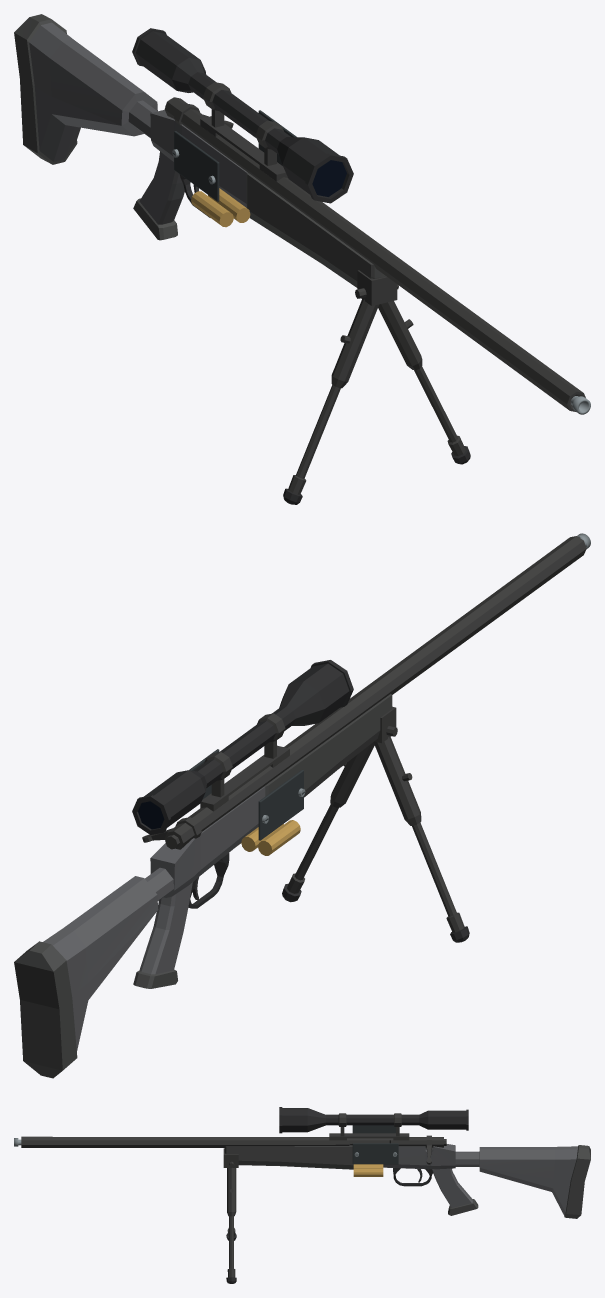
The model's file is weapon_07.glb.
The picture shows the model from 3 angles, top to bottom: view 1: azimuth 30°, elevation 25°; view 2: azimuth 150°, elevation 25°; view 3: azimuth 270°, elevation 25°; orthographic projection. The views are drawn at different scales.
Parts seen in each view (by area): view 1: receiver_geometry, Recessed receiver plate.001, reload_rounds_geometry; view 2: receiver_geometry, Recessed receiver plate.001, reload_rounds_geometry; view 3: receiver_geometry, Recessed receiver plate, reload_rounds_geometry, Recessed receiver plate.001.
Boxes of the visible parts, x1,y1,x2,y2 form: receiver_geometry: [14, 14, 585, 504]; Recessed receiver plate.001: [174, 131, 219, 201]; reload_rounds_geometry: [191, 188, 250, 227]; receiver_geometry: [14, 536, 586, 1078]; Recessed receiver plate.001: [258, 769, 303, 840]; reload_rounds_geometry: [238, 820, 300, 855]; receiver_geometry: [21, 1107, 590, 1283]; Recessed receiver plate: [352, 1143, 398, 1164]; reload_rounds_geometry: [353, 1164, 383, 1176]; Recessed receiver plate.001: [352, 1125, 395, 1133].
Bounding box in the file's own units: 0.2324 × 0.3537 × 1.19.
